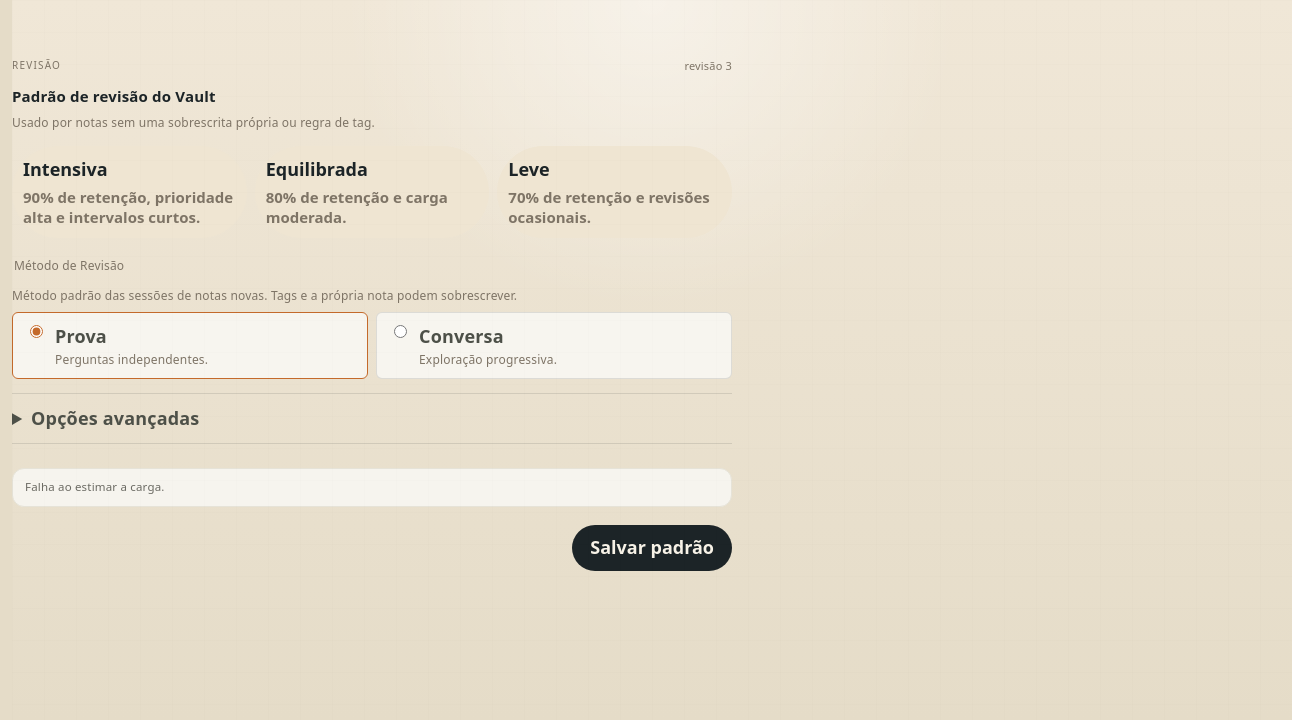
Test: VaultReviewPolicySettings › applies immediately when no existing note is affected
Click the button "Leve 70% de retenção e revisões ocasionais." at {"x": 615, "y": 192}, box [497,146,732,238]
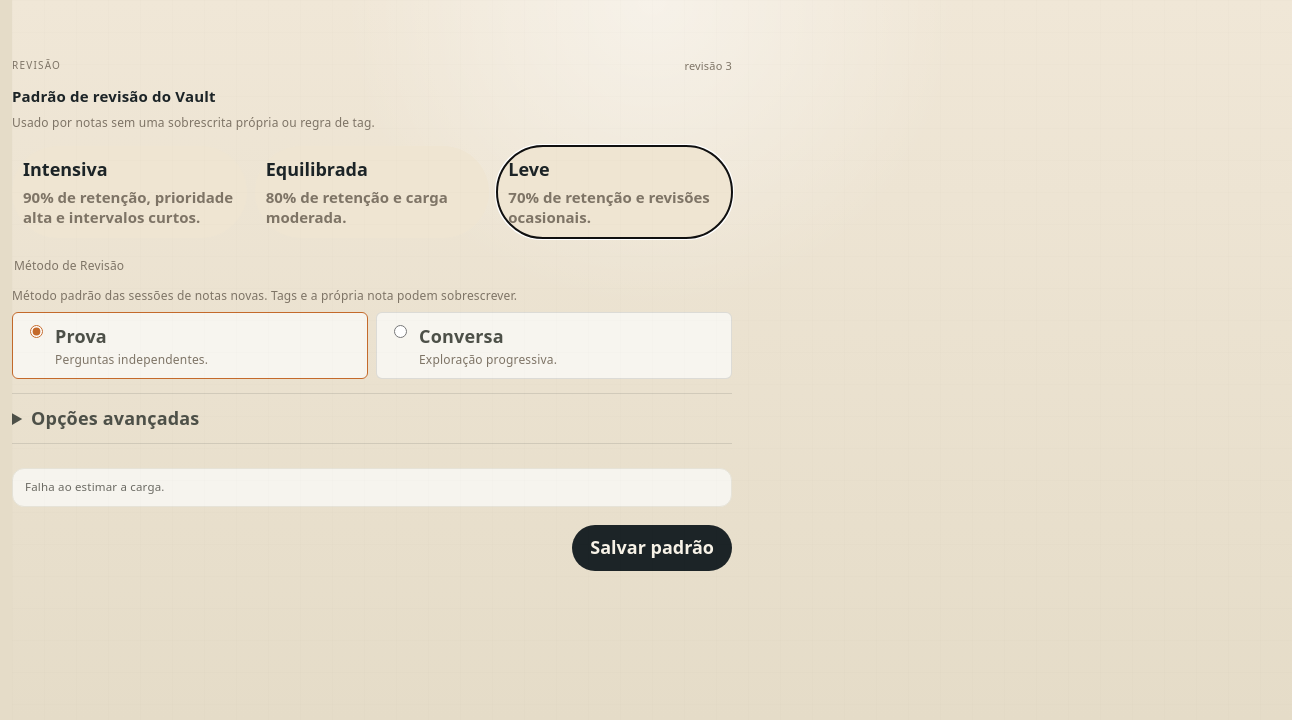
Click the button "Salvar padrão" at {"x": 652, "y": 548}, box [572,525,732,571]
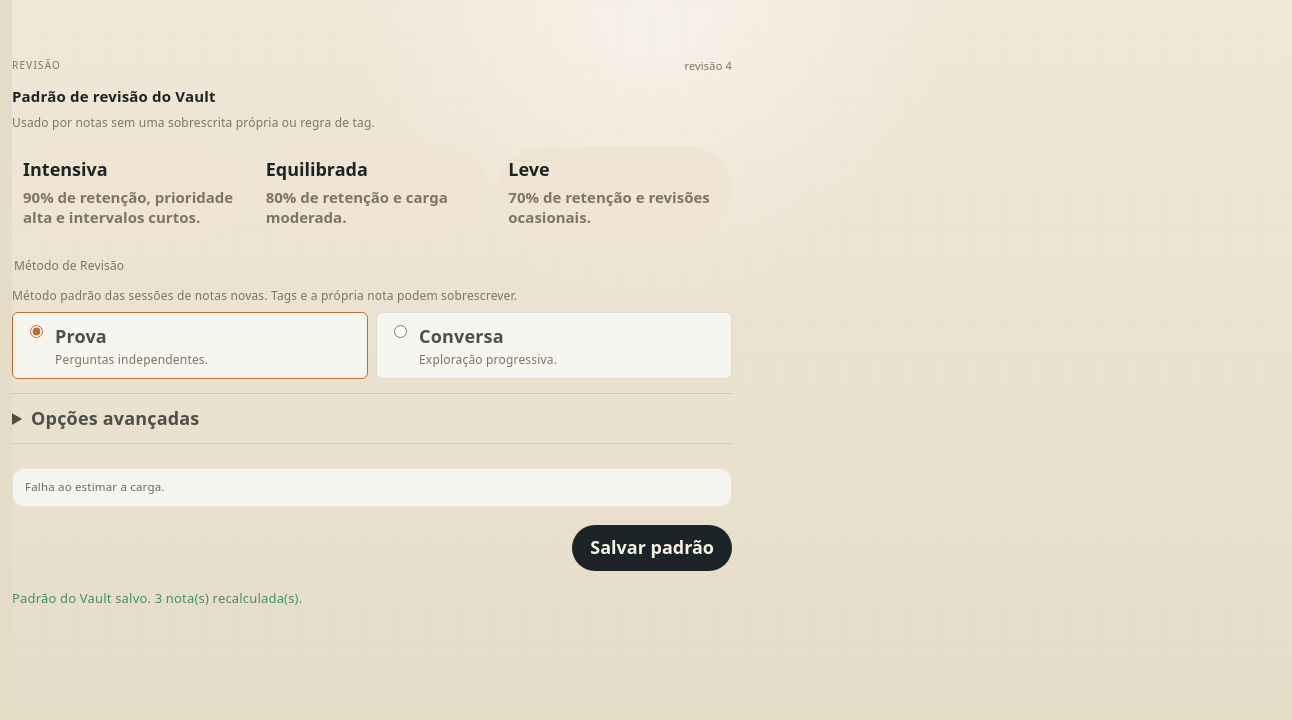
Now the message shows "Padrão do Vault salvo", box [12,589,302,607]
